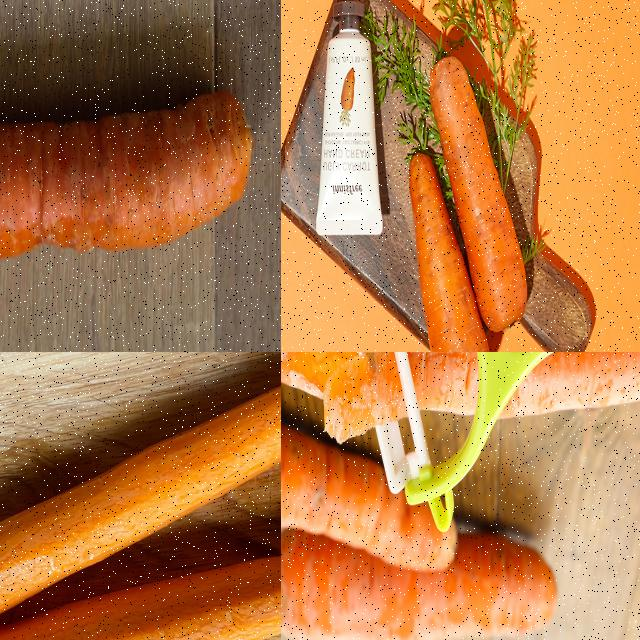carrot: (0, 352, 280, 639), (0, 76, 256, 304), (281, 526, 558, 639), (281, 399, 459, 573), (426, 55, 529, 335), (0, 539, 280, 639), (281, 352, 639, 421), (408, 147, 492, 351)
